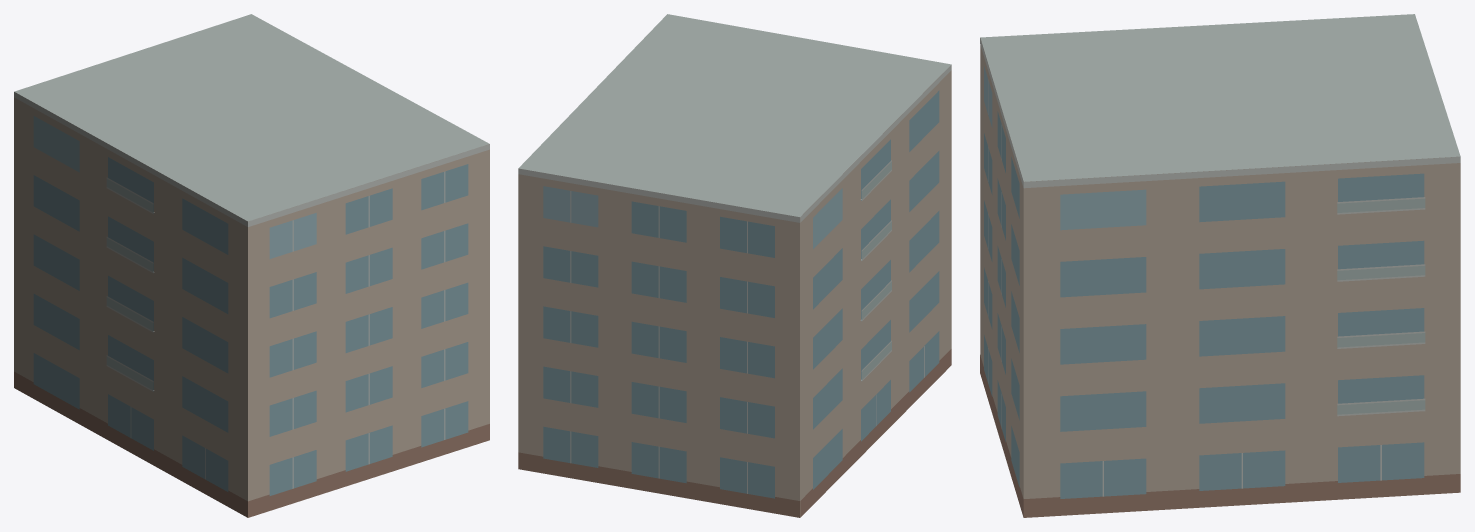
Rendered from survey-upis-32530993.glb.
3 renders of one model, left to right at view 1: azimuth 30°, elevation 25°; view 2: azimuth 150°, elevation 25°; view 3: azimuth 270°, elevation 25°, orthographic. The views are drawn at different scales.
Visible parts, largest first — view 1: survey-upis-32530993.tmp; view 2: survey-upis-32530993.tmp; view 3: survey-upis-32530993.tmp.
Part boxes in pixels (box(x1,y1,x2,y2)): survey-upis-32530993.tmp: box(14, 14, 489, 517); survey-upis-32530993.tmp: box(518, 14, 951, 517); survey-upis-32530993.tmp: box(980, 14, 1460, 517).
Bounding box in the file's own units: 13.72 × 12.8 × 16.59.
